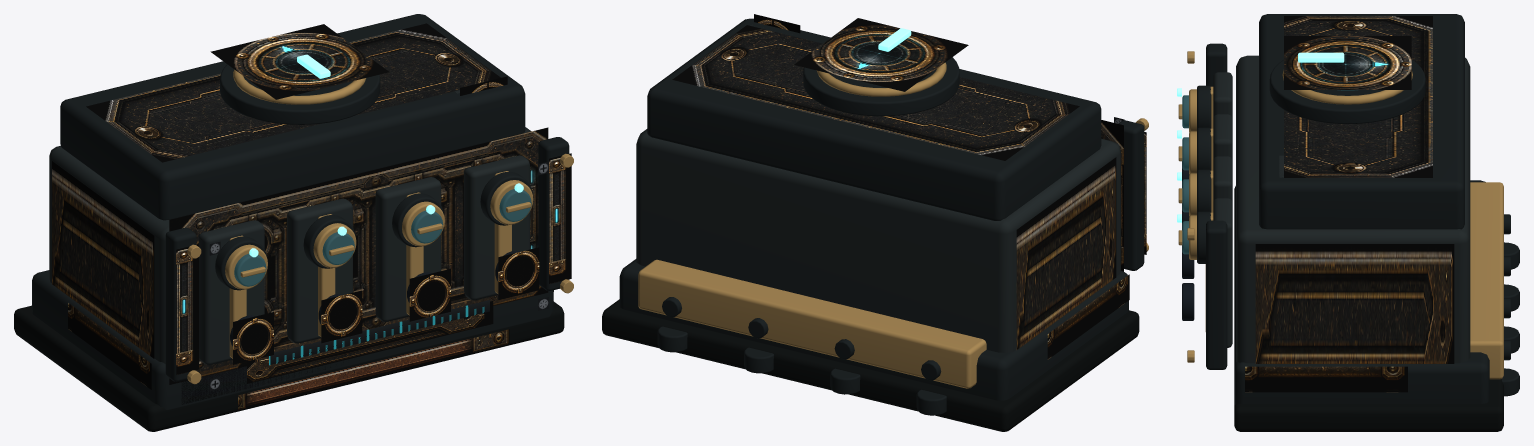
File: hp_builder_route_switch_console.glb
3 views of the same model, side by side, from view 1: azimuth 30°, elevation 25°; view 2: azimuth 150°, elevation 25°; view 3: azimuth 270°, elevation 25° (orthographic). The views are drawn at different scales.
Visible parts, largest first — view 1: route_img2_top_deck_block, route_img2_four_slot_rack_image2, route_img2_top_deck_image2, route_img2_side_body_image2_l, route_img2_lower_plinth, route_img2_shadow_foot, route_img2_rotary_face_image2, route_img2_module_back_3, route_img2_module_back_2, route_img2_module_back_4, route_img2_module_back_1, route_img2_body_core (+31 smaller); view 2: route_img2_body_core, route_img2_top_deck_block, route_img2_back_cable_trunk, route_img2_top_deck_image2, route_img2_shadow_foot, route_img2_side_body_image2_l, route_img2_lower_plinth, route_img2_rotary_face_image2, route_img2_rotary_socket, route_img2_side_rail_block_l, route_img2_side_trim_image2_l, route_img2_rotary_brass_ring (+5 smaller); view 3: route_img2_side_body_image2_r, route_img2_top_deck_block, route_img2_top_deck_image2, route_img2_body_core, route_img2_shadow_foot, route_img2_lower_plinth, route_img2_rotary_face_image2, route_img2_back_cable_trunk, route_img2_side_trim_image2_r, route_img2_rotary_socket, route_img2_side_rail_block_r, route_img2_module_back_4 (+15 smaller).
Part boxes in pixels (<box>): route_img2_top_deck_block: <box>60,14,525,220</box>; route_img2_four_slot_rack_image2: <box>169,127,548,384</box>; route_img2_top_deck_image2: <box>86,23,500,162</box>; route_img2_side_body_image2_l: <box>52,161,154,358</box>; route_img2_lower_plinth: <box>32,270,553,409</box>; route_img2_shadow_foot: <box>14,301,564,431</box>; route_img2_rotary_face_image2: <box>210,24,389,99</box>; route_img2_module_back_3: <box>375,177,441,321</box>; route_img2_module_back_2: <box>287,198,352,343</box>; route_img2_module_back_4: <box>464,155,529,300</box>; route_img2_module_back_1: <box>198,220,264,364</box>; route_img2_body_core: <box>49,127,531,363</box>; route_img2_body_core: <box>636,129,1120,352</box>; route_img2_top_deck_block: <box>647,18,1101,220</box>; route_img2_back_cable_trunk: <box>638,259,986,388</box>; route_img2_top_deck_image2: <box>672,25,1079,160</box>; route_img2_shadow_foot: <box>602,299,1139,431</box>; route_img2_side_body_image2_l: <box>1016,157,1116,349</box>; route_img2_lower_plinth: <box>619,259,1128,400</box>; route_img2_rotary_face_image2: <box>794,18,968,91</box>; route_img2_rotary_socket: <box>803,57,959,116</box>; route_img2_side_rail_block_l: <box>1118,120,1144,270</box>; route_img2_side_trim_image2_l: <box>1047,274,1129,359</box>; route_img2_rotary_brass_ring: <box>816,62,946,96</box>; route_img2_side_body_image2_r: <box>1255,244,1454,363</box>; route_img2_top_deck_block: <box>1259,14,1464,229</box>; route_img2_top_deck_image2: <box>1284,16,1432,177</box>; route_img2_body_core: <box>1236,55,1470,363</box>; route_img2_shadow_foot: <box>1234,379,1503,431</box>; route_img2_lower_plinth: <box>1234,180,1489,405</box>; route_img2_rotary_face_image2: <box>1284,36,1411,89</box>; route_img2_back_cable_trunk: <box>1470,182,1503,379</box>; route_img2_side_trim_image2_r: <box>1245,366,1407,392</box>; route_img2_rotary_socket: <box>1269,60,1425,123</box>; route_img2_side_rail_block_r: <box>1206,220,1227,369</box>; route_img2_module_back_4: <box>1213,198,1232,347</box>.
Bounding box in the file's own units: 1.32 × 0.8955 × 0.966.
13 materials, 5 textured.
